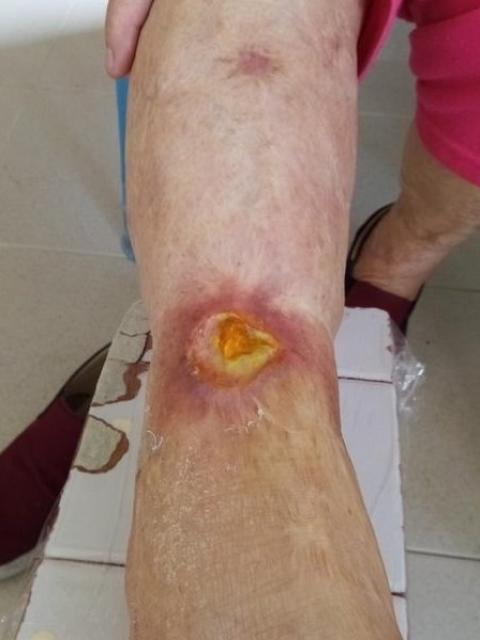wound: (173, 308, 311, 406)
